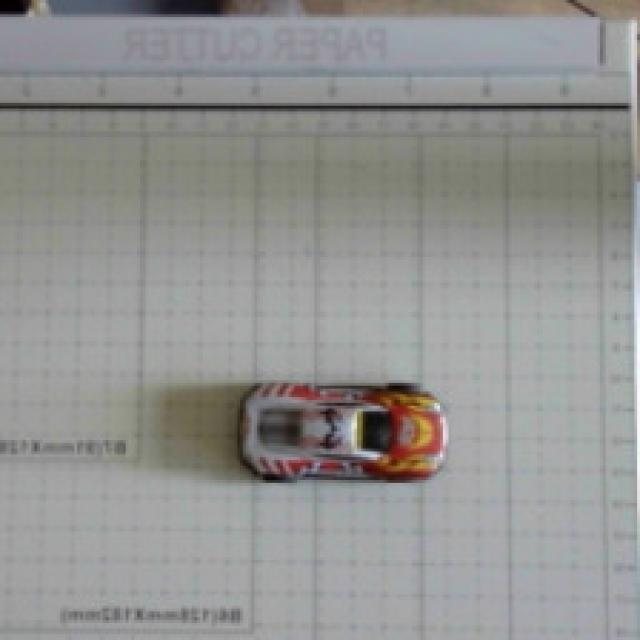Red Car: (207, 336, 467, 530)
